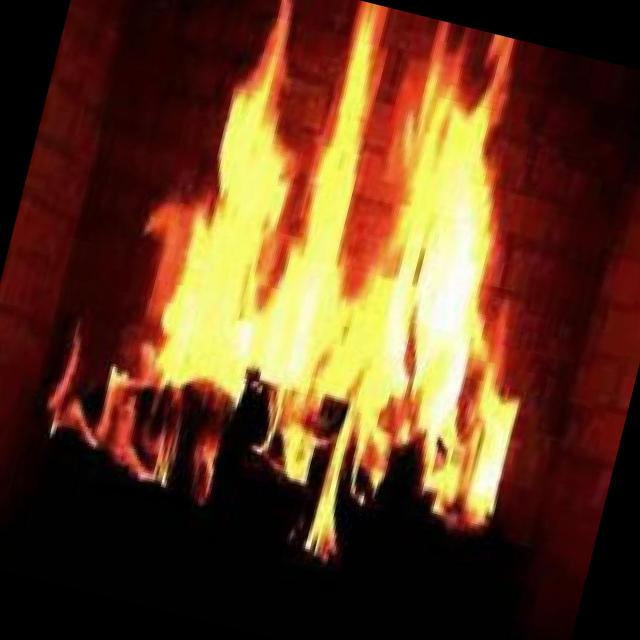Smoke: (14, 0, 616, 613)
